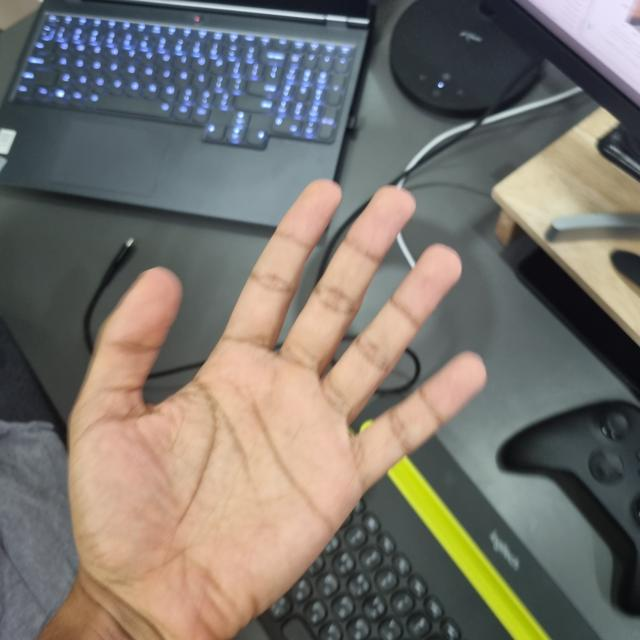Paper: (65, 181, 486, 638)
